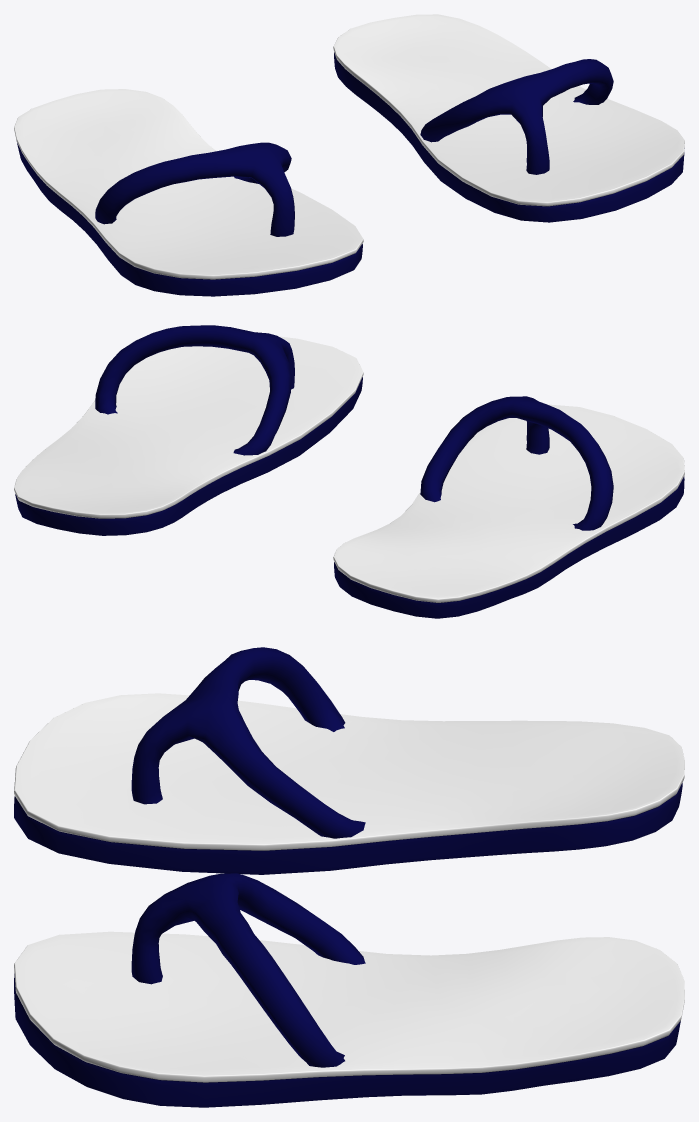
File: in_flip_flops.glb
3 renders of one model, top to bottom at view 1: azimuth 30°, elevation 25°; view 2: azimuth 150°, elevation 25°; view 3: azimuth 270°, elevation 25°, orthographic. The views are drawn at different scales.
Visible parts, largest first — view 1: Shoes_R_lambert9_0, Shoes_R_lambert8_0; view 2: Shoes_R_lambert9_0, Shoes_R_lambert8_0; view 3: Shoes_R_lambert9_0, Shoes_R_lambert8_0.
Part boxes in pixels (bbox=[...]): Shoes_R_lambert9_0: bbox=[14, 14, 684, 279]; Shoes_R_lambert8_0: bbox=[17, 52, 684, 296]; Shoes_R_lambert9_0: bbox=[14, 336, 684, 602]; Shoes_R_lambert8_0: bbox=[15, 325, 684, 618]; Shoes_R_lambert9_0: bbox=[14, 693, 684, 1082]; Shoes_R_lambert8_0: bbox=[14, 647, 682, 1107].
Bounding box in the file's own units: 0.3 × 0.0516 × 0.2235.
